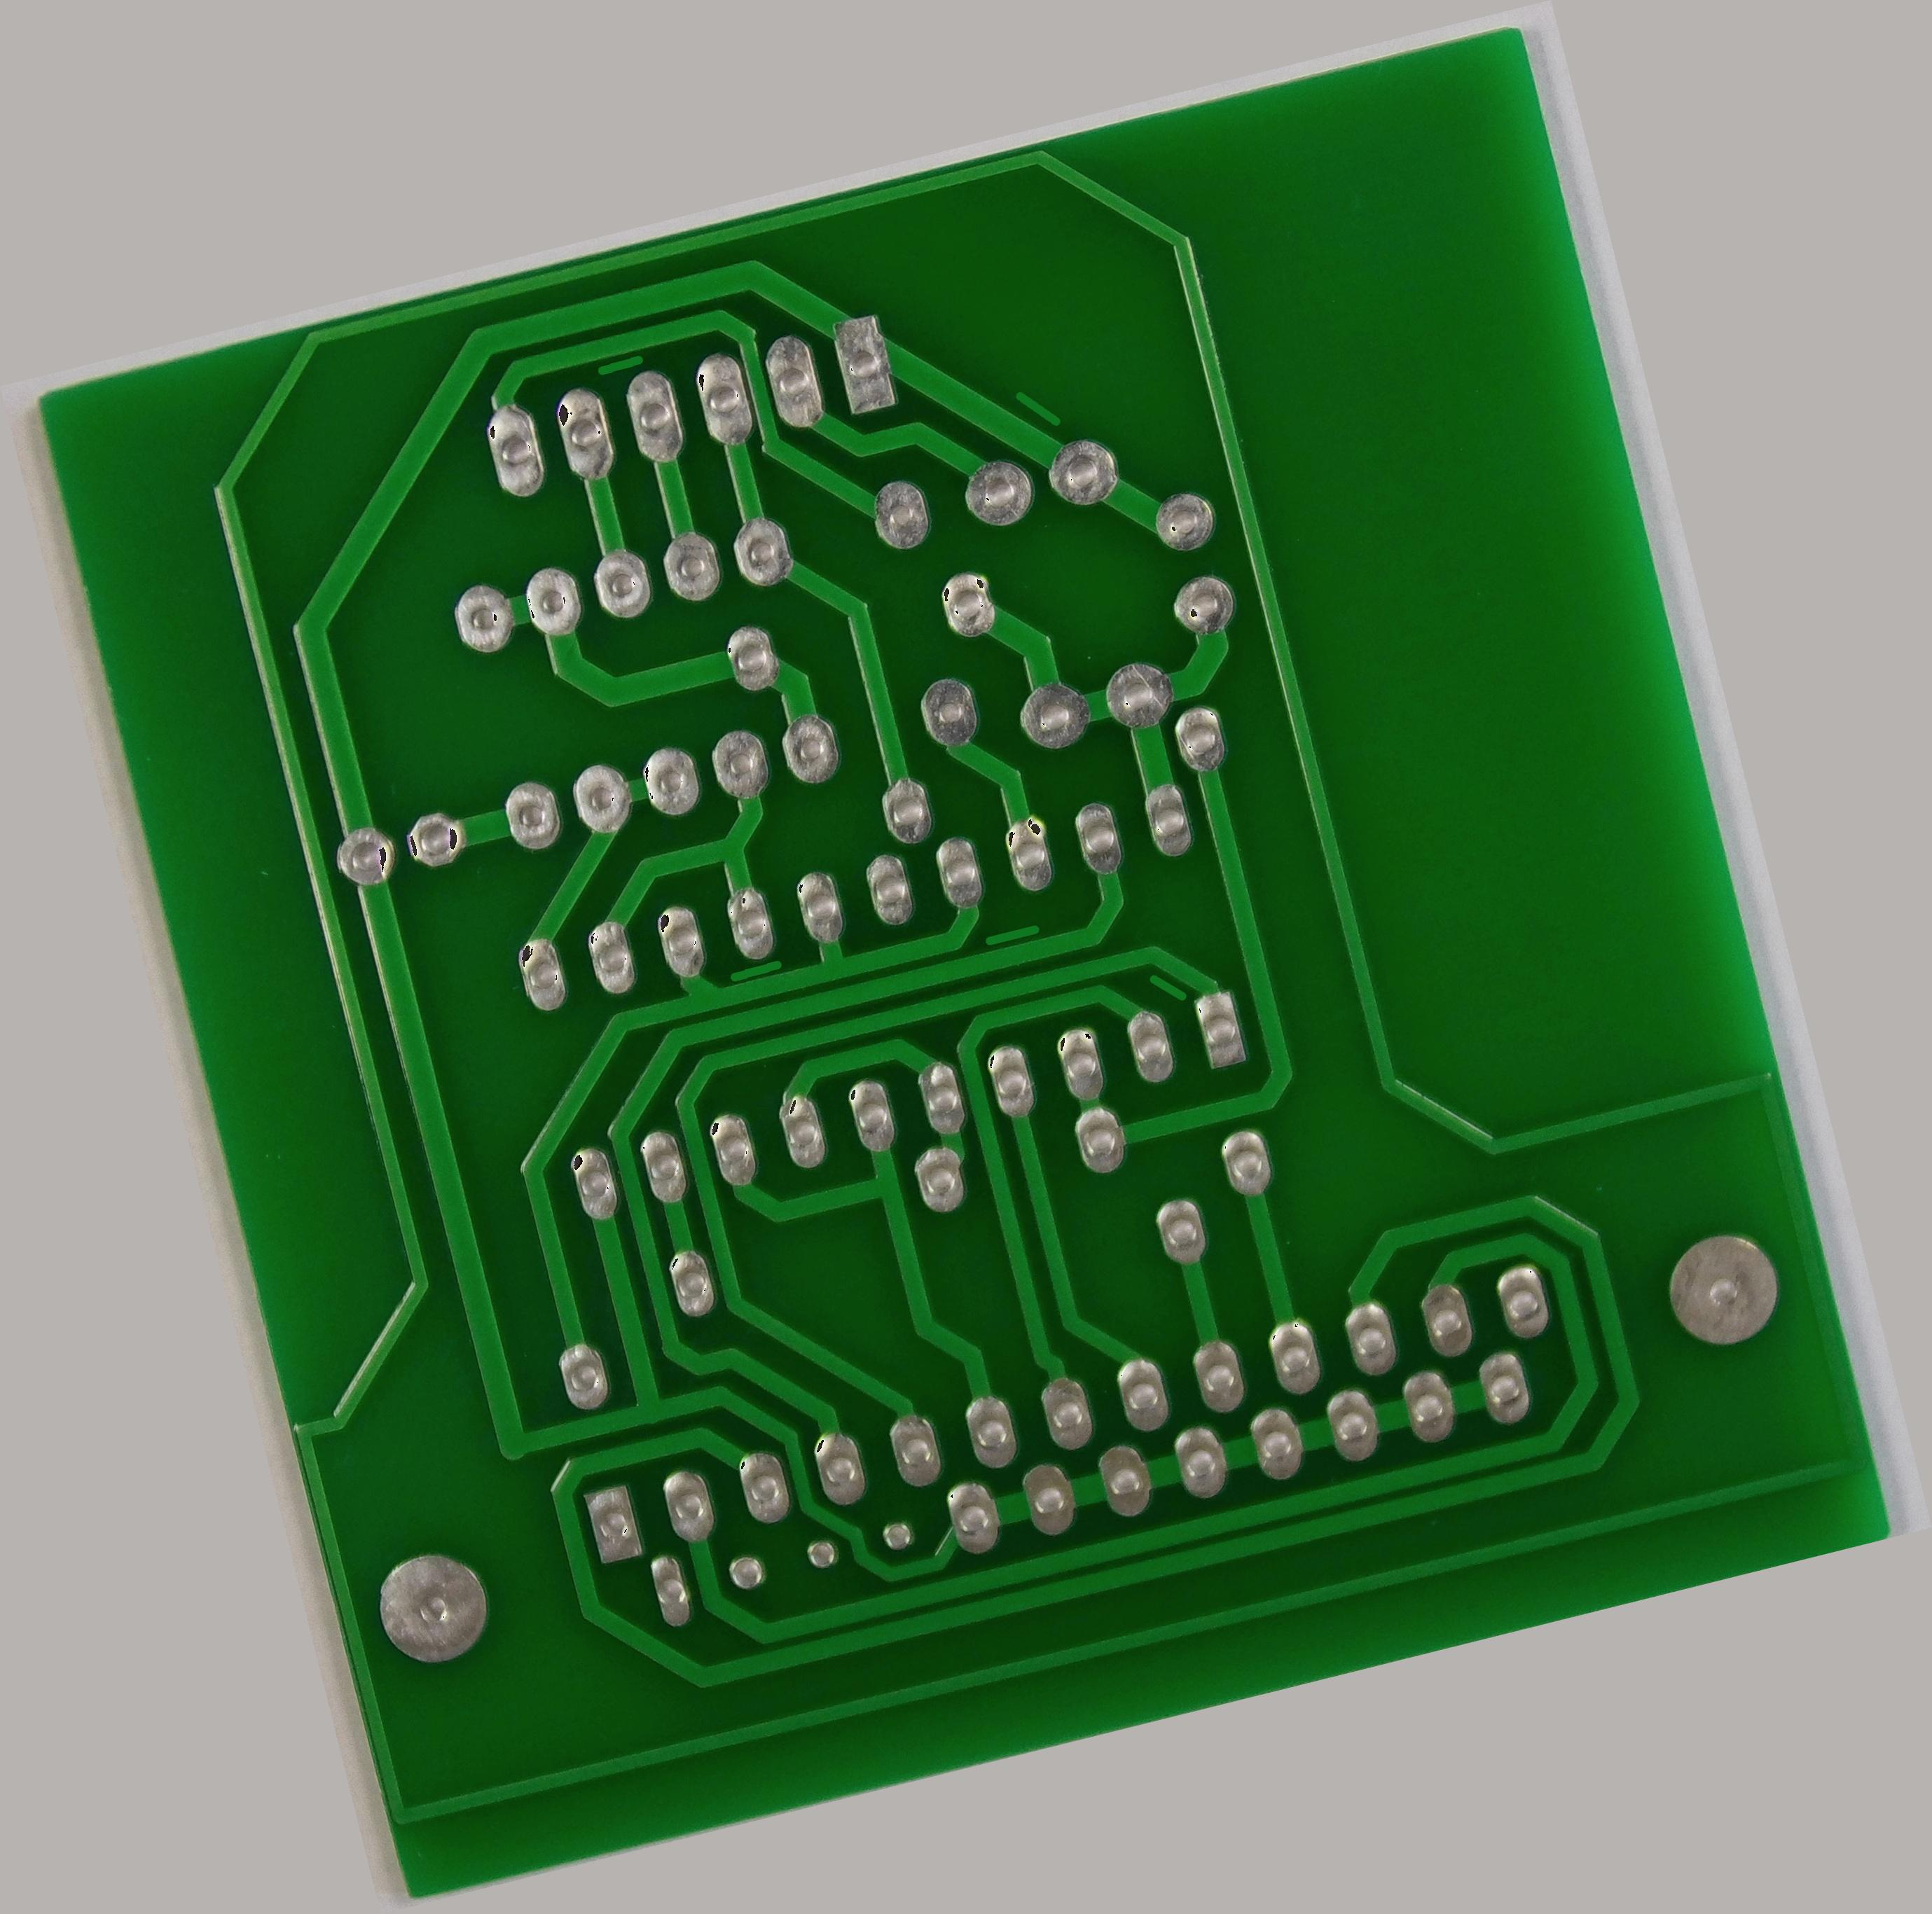spurious_copper: (1001, 372, 1071, 443), (577, 335, 657, 391), (970, 910, 1052, 959), (719, 943, 792, 996), (1136, 959, 1197, 1020)
